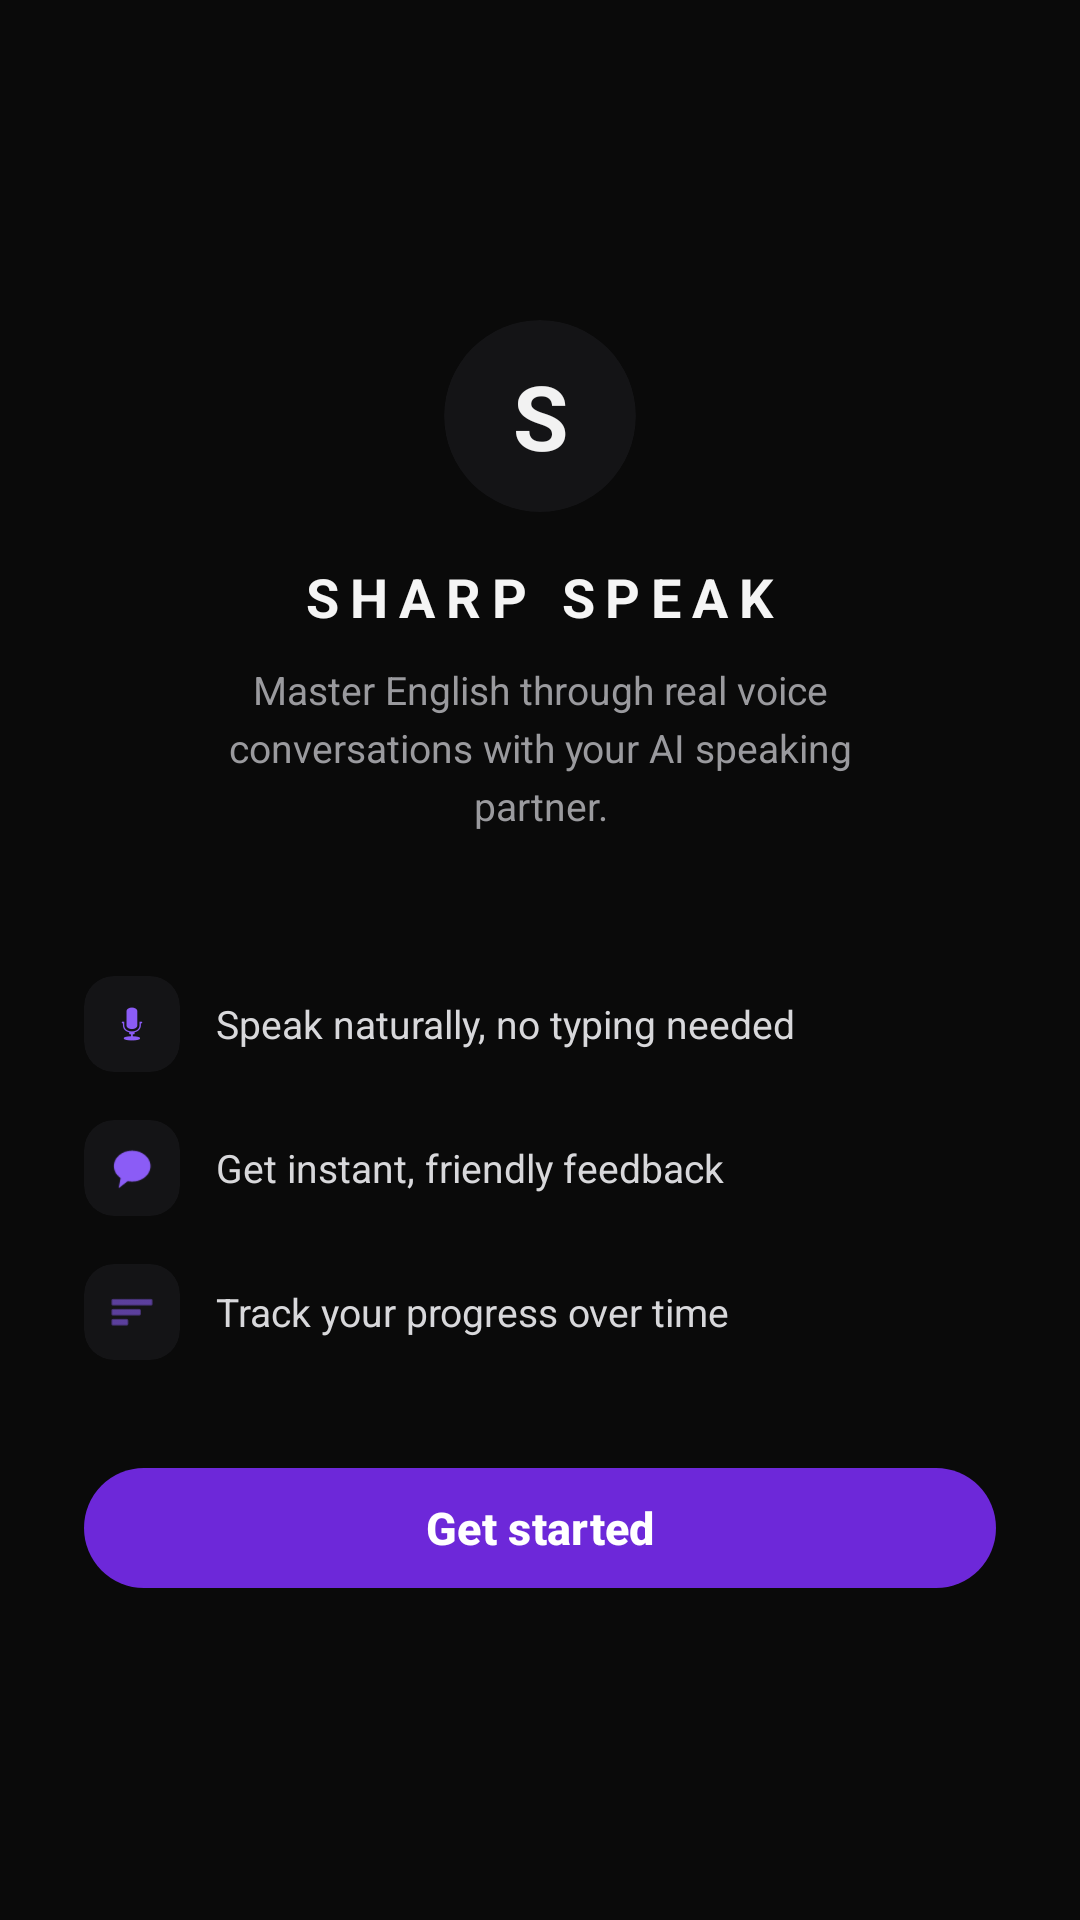

Locate icon controls on the screen. Image size 1080*1920, boxes as [left=x1, top=y1, right=x2, bottom=y2].
sort by size: [left=111, top=1299, right=153, bottom=1326]
speak now: [left=121, top=1007, right=143, bottom=1041]
sym action chat: [left=113, top=1150, right=151, bottom=1188]
